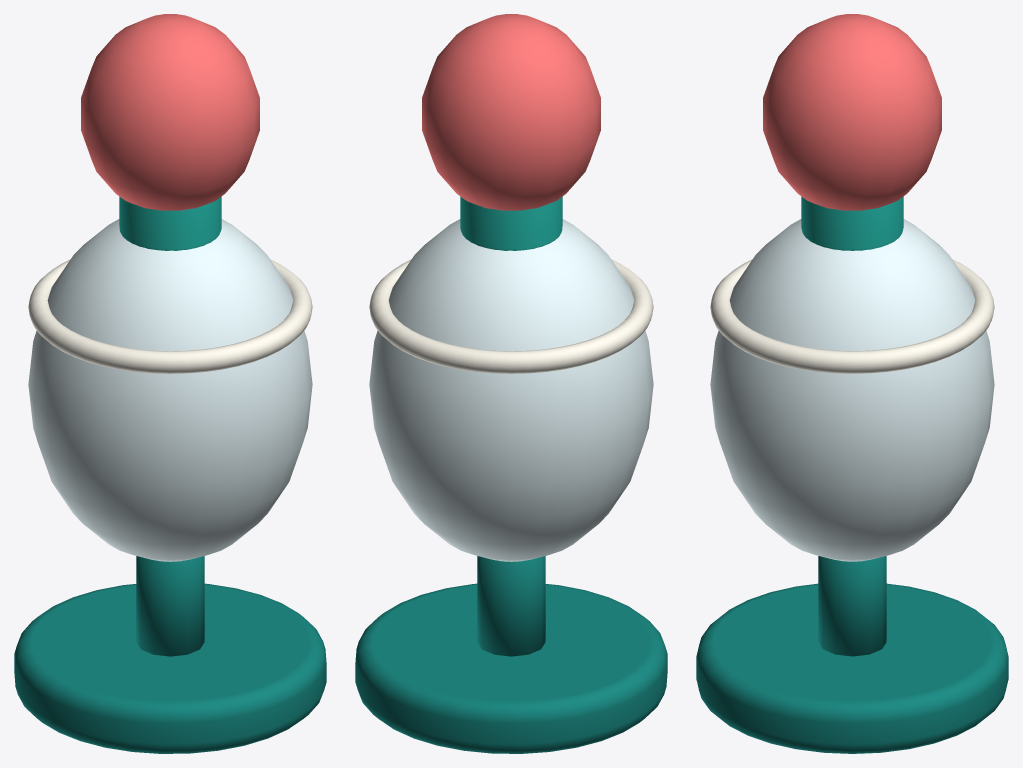
The model's file is SiphonBulb.fbx.
3 views of the same model, side by side, from view 1: azimuth 30°, elevation 25°; view 2: azimuth 150°, elevation 25°; view 3: azimuth 270°, elevation 25° (orthographic).
Parts seen in each view (by area): view 1: SiphonBulb mesh; view 2: SiphonBulb mesh; view 3: SiphonBulb mesh.
Boxes of the visible parts, x1,y1,x2,y2 form: SiphonBulb mesh: (14, 14, 326, 753); SiphonBulb mesh: (355, 14, 667, 753); SiphonBulb mesh: (696, 14, 1008, 753).
Bounding box in the file's own units: 0.11 × 0.261 × 0.11.
